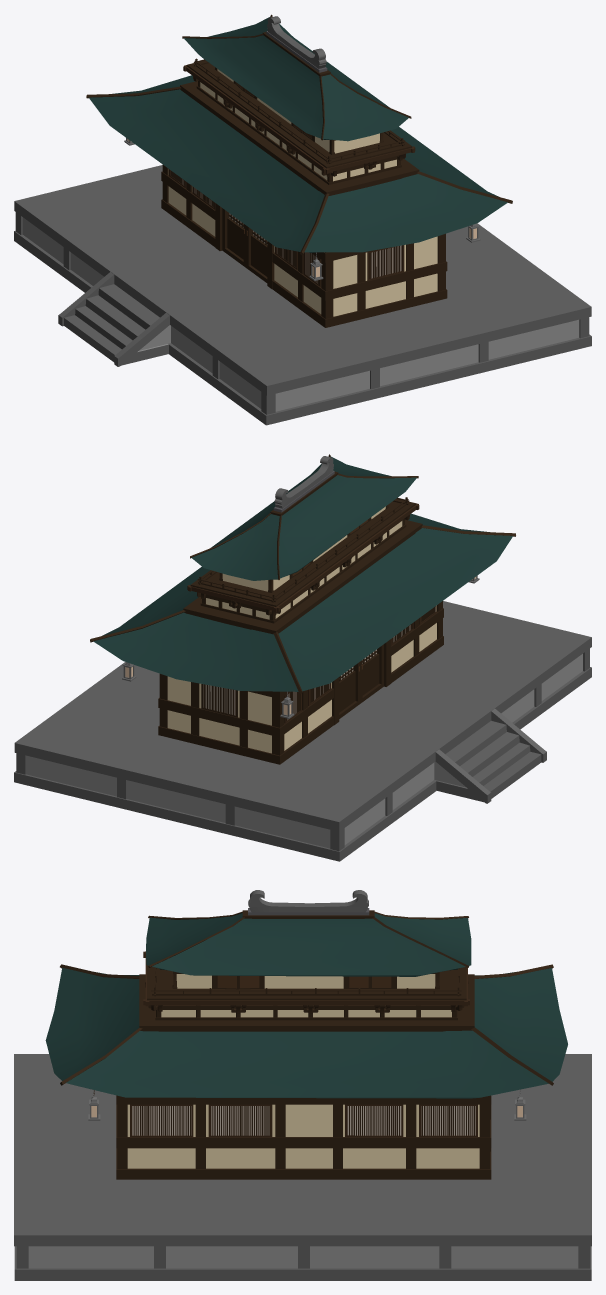
File: houme06_2.fbx
3 renders of one model, top to bottom at view 1: azimuth 30°, elevation 25°; view 2: azimuth 150°, elevation 25°; view 3: azimuth 270°, elevation 25°, orthographic. The views are drawn at different scales.
Parts seen in each view (by area): view 1: foundation_6_1_2, houme6_2, on_the_roof_6_1_2; view 2: foundation_6_1_2, houme6_2, on_the_roof_6_1_2; view 3: houme6_2, foundation_6_1_2, on_the_roof_6_1_2, Lantern_6_1_2.
Boxes of the visible parts, box(x1,y1,x2,y2) form: foundation_6_1_2: box(14, 165, 591, 425); houme6_2: box(86, 14, 512, 327); on_the_roof_6_1_2: box(262, 16, 330, 76); foundation_6_1_2: box(14, 601, 591, 861); houme6_2: box(90, 454, 515, 764); on_the_roof_6_1_2: box(270, 456, 338, 515); houme6_2: box(45, 911, 567, 1179); foundation_6_1_2: box(14, 1054, 591, 1280); on_the_roof_6_1_2: box(242, 890, 374, 918); Lantern_6_1_2: box(88, 1090, 526, 1120).
Bounding box in the file's own units: 2386 × 1563 × 2767.
